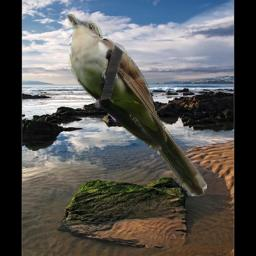Cuckoo: (67, 14, 207, 197)
